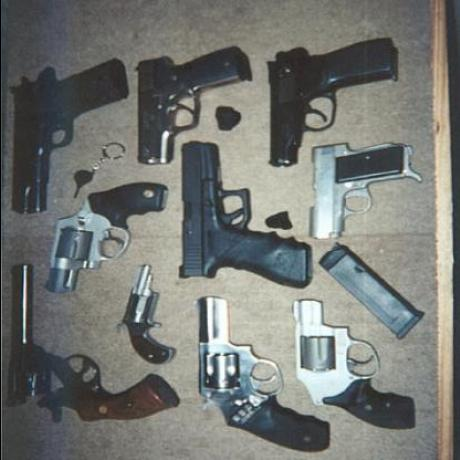weapon: (0, 262, 178, 427), (182, 298, 332, 454), (167, 138, 312, 294), (0, 40, 119, 218), (258, 30, 398, 172), (288, 298, 417, 434), (130, 40, 255, 167), (44, 178, 168, 292), (306, 136, 422, 243), (116, 261, 176, 367)
